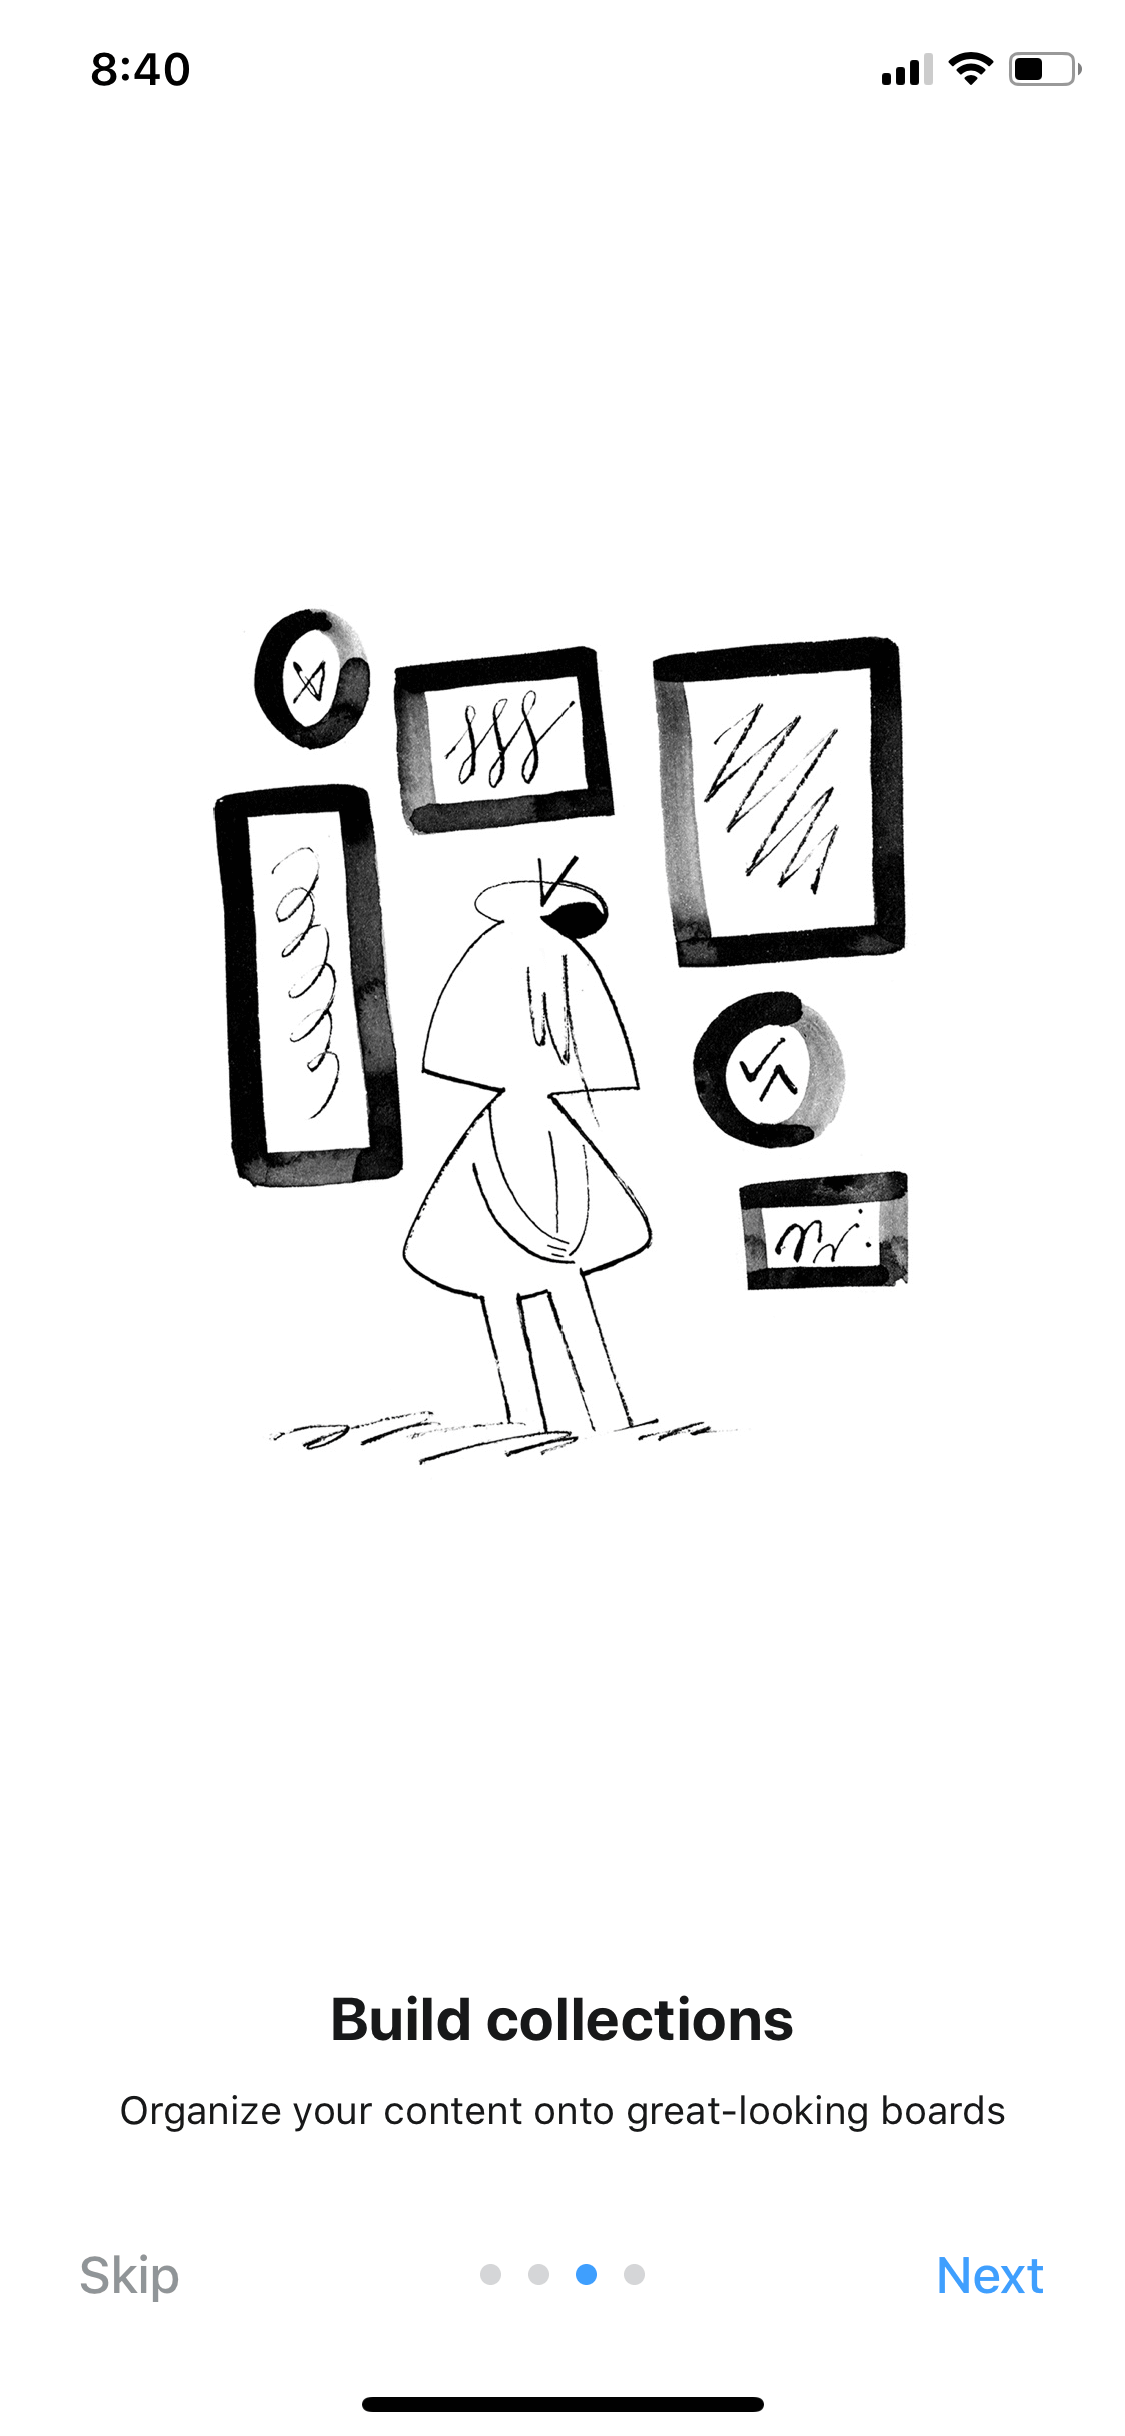Buttons: (895, 2214, 1078, 2335), (40, 2214, 214, 2333)
Page Controls: (434, 2226, 693, 2312)
